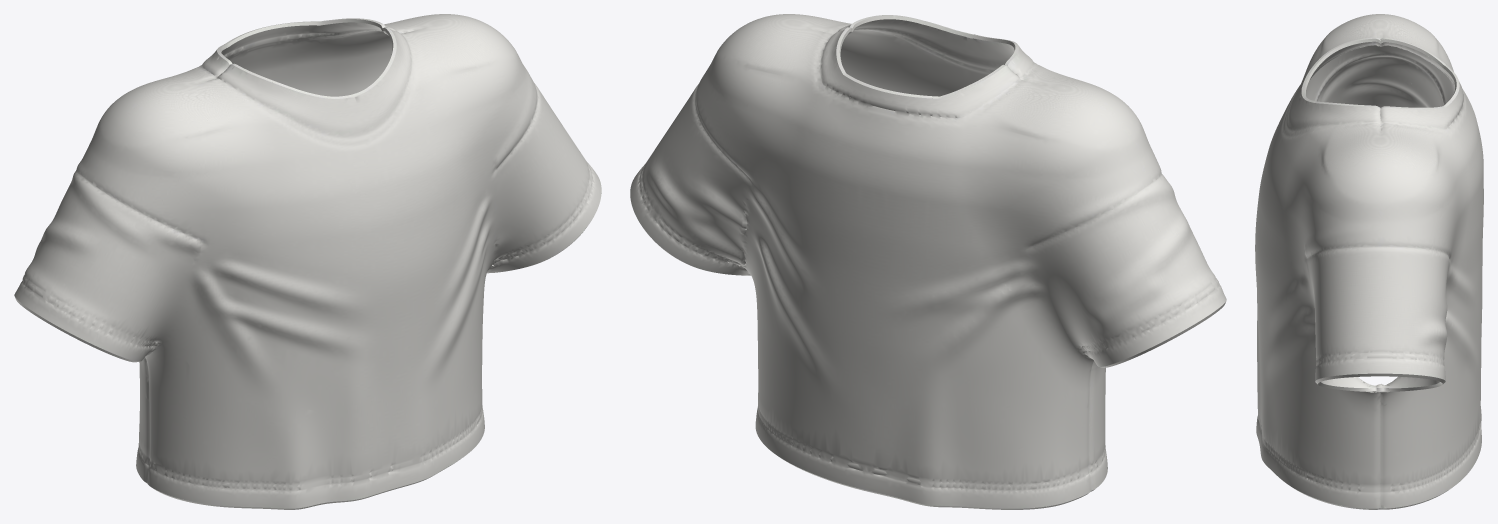
Rendered from 05_camiseta_crop_pbr.glb.
The picture shows the model from 3 angles, left to right: view 1: azimuth 30°, elevation 25°; view 2: azimuth 150°, elevation 25°; view 3: azimuth 270°, elevation 25°; orthographic projection. The views are drawn at different scales.
Parts seen in each view (by area): view 1: Camiseta PBR; view 2: Camiseta PBR; view 3: Camiseta PBR.
Boxes of the visible parts, bbox=[...] form: Camiseta PBR: bbox=[14, 14, 601, 509]; Camiseta PBR: bbox=[630, 14, 1226, 509]; Camiseta PBR: bbox=[1255, 14, 1483, 509].
Bounding box in the file's own units: 0.6665 × 0.4549 × 0.2563.
1 material, 1 textured.
